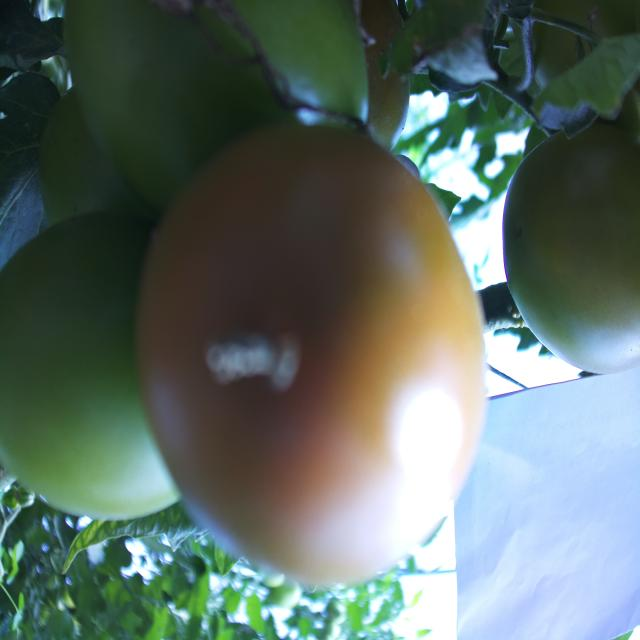sari: (133, 137, 489, 575)
